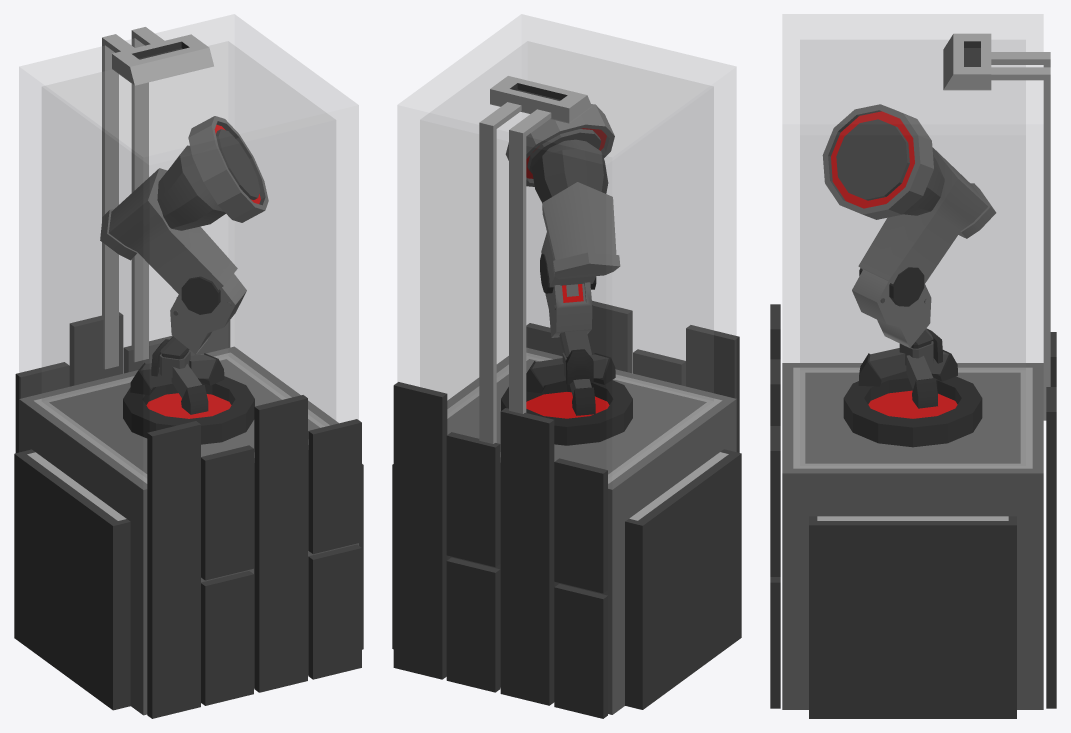
File: expo jambe mecha.fbx
The picture shows the model from 3 angles, left to right: view 1: azimuth 30°, elevation 25°; view 2: azimuth 150°, elevation 25°; view 3: azimuth 270°, elevation 25°; orthographic projection. The views are drawn at different scales.
Parts seen in each view (by area): view 1: expo_jambe_mecha; view 2: expo_jambe_mecha; view 3: expo_jambe_mecha.
Boxes of the visible parts, x1,y1,x2,y2 form: expo_jambe_mecha: (14, 14, 363, 718); expo_jambe_mecha: (392, 14, 741, 718); expo_jambe_mecha: (770, 14, 1056, 718).
Size of the model in its own units: 1.16 by 2.54 by 1.1.
